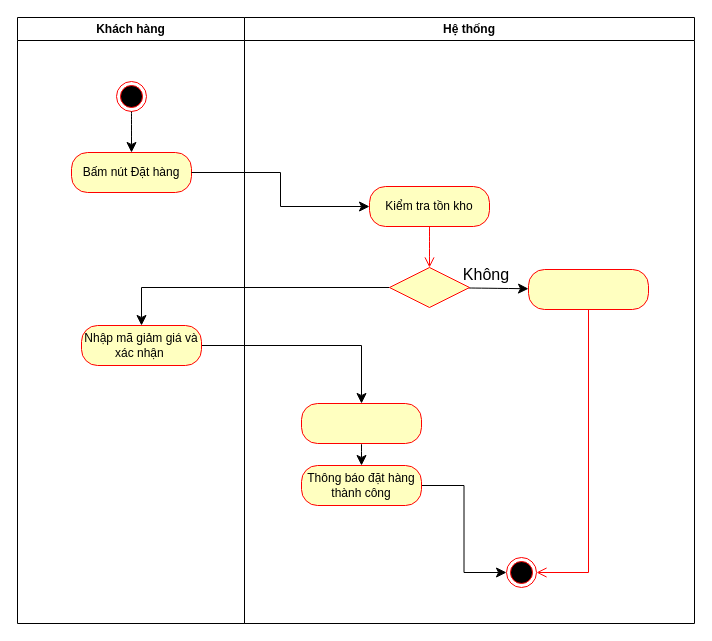
Image size: 712x641. Some labels were removed from this diagram. The centre of each missing label's shape, as x and y in pixels:
"Thông báo không đủ hàng" belongs at point (588, 289).
"Tạo đơn hàng" belongs at point (361, 423).
"Tồn kho?" belongs at point (429, 287).
